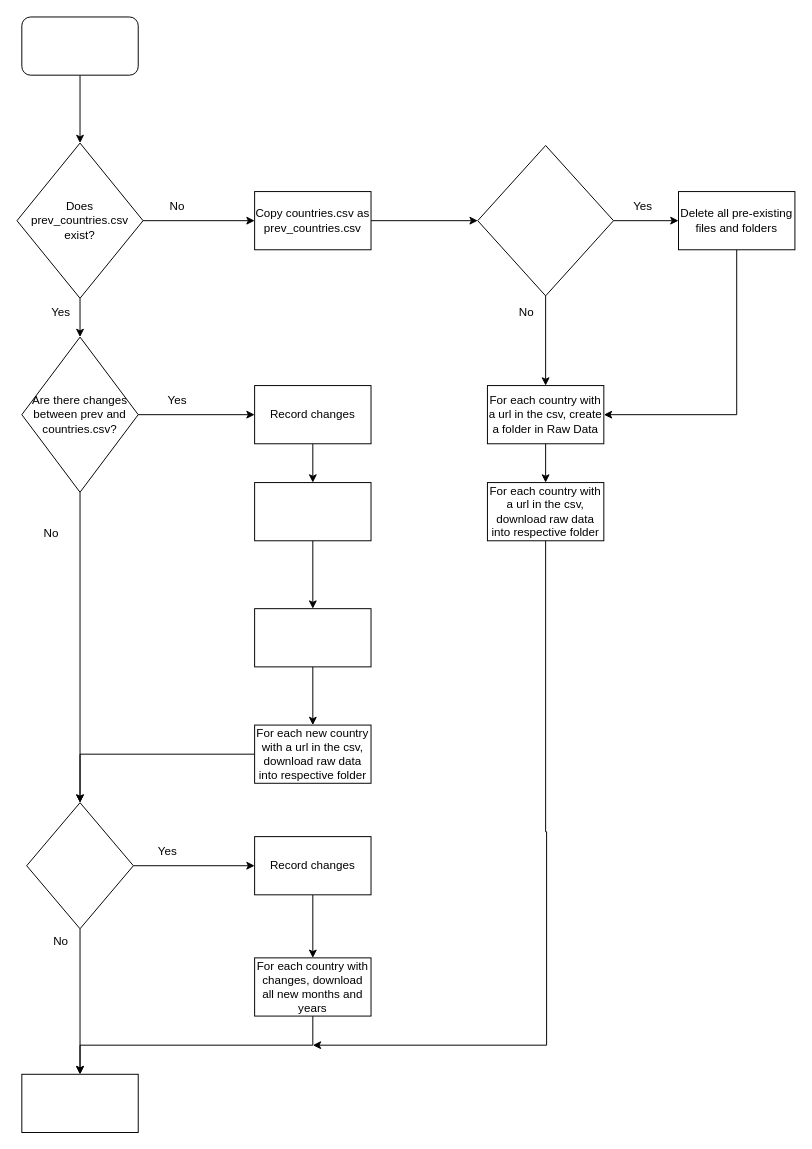
The diagram is 812 pixels wide and 1149 high, and some of its shapes have lost their labels. The centre of each missing label's shape, as x and y in pixels:
"Are there files and/or folders in the Raw Data repo?" belongs at pixel 545 220.
"Do current countries have any new months or years?" belongs at pixel 79 865.
"For each new country with a url in the csv, create respective folder in Raw Data" belongs at pixel 312 637.
"Overwrite prev_countries with countries.csv" belongs at pixel 312 511.
"Start" belongs at pixel 79 45.
